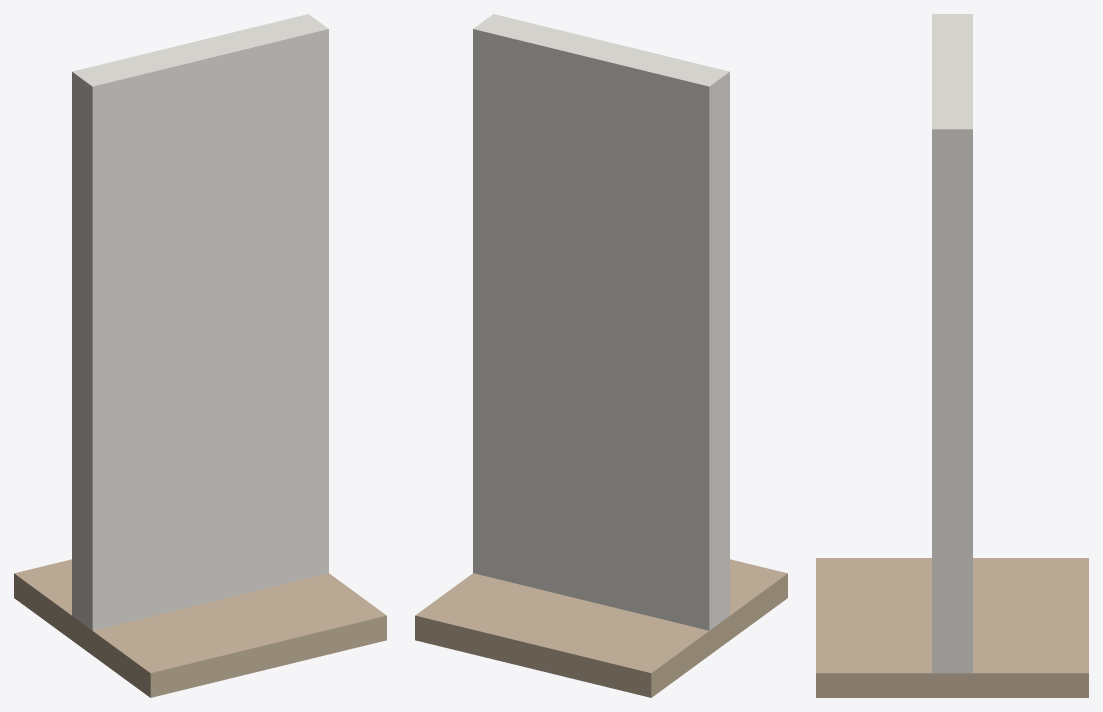
The model's file is kit.glb.
3 renders of one model, left to right at view 1: azimuth 30°, elevation 25°; view 2: azimuth 150°, elevation 25°; view 3: azimuth 270°, elevation 25°, orthographic.
Parts seen in each view (by area): view 1: wall, low_wall, floor_tile, door_lintel; view 2: wall, low_wall, floor_tile, door_lintel; view 3: floor_tile, wall, low_wall, door_lintel.
Boxes of the visible parts, x1,y1,x2,y2 form: wall: (72,14,328,630); low_wall: (72,350,328,629); floor_tile: (14,559,386,697); door_lintel: (72,29,328,135); wall: (473,14,729,630); low_wall: (473,350,729,629); floor_tile: (415,559,787,697); door_lintel: (473,30,729,135); floor_tile: (816,558,1088,697); wall: (932,14,972,673); low_wall: (932,452,972,672); door_lintel: (932,129,972,178).
Bounding box in the file's own units: 1 × 2.3 × 1.
